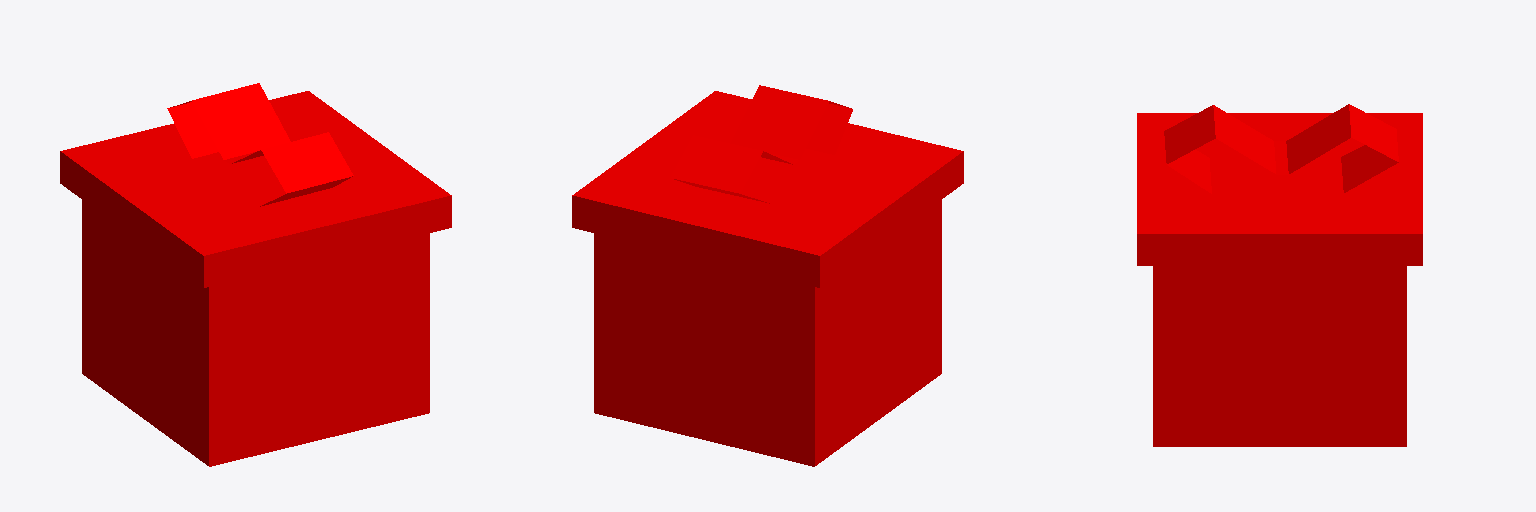
The model's file is gift.obj.
3 views of the same model, side by side, from view 1: azimuth 30°, elevation 25°; view 2: azimuth 150°, elevation 25°; view 3: azimuth 270°, elevation 25° (orthographic).
Visible parts, largest first — view 1: Cube.007; view 2: Cube.007; view 3: Cube.007.
Part boxes in pixels (bbox=[...]): Cube.007: bbox=[60, 83, 451, 466]; Cube.007: bbox=[572, 85, 963, 466]; Cube.007: bbox=[1137, 104, 1422, 446].
Bounding box in the file's own units: 0.1752 × 0.1856 × 0.1752.